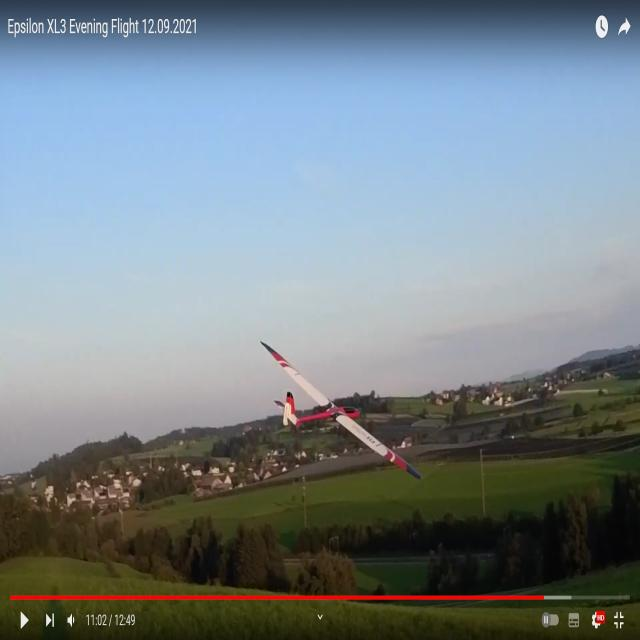iha: (258, 338, 420, 493)
